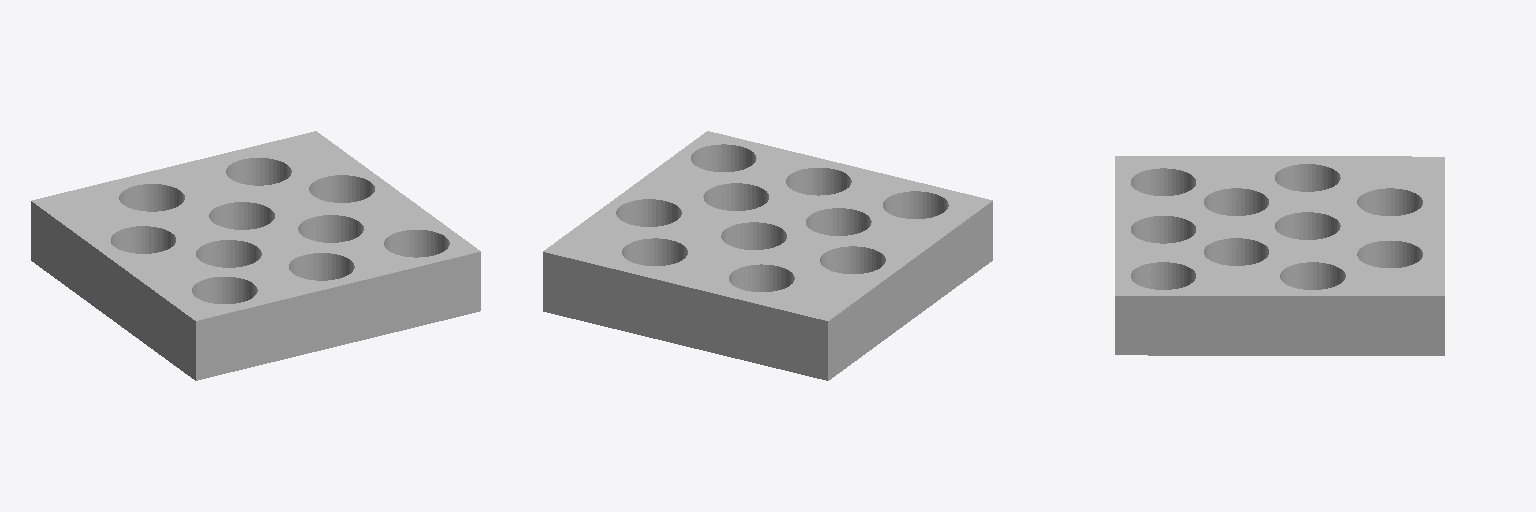
File: spears trap's base obj.obj
The picture shows the model from 3 angles: view 1: azimuth 30°, elevation 25°; view 2: azimuth 150°, elevation 25°; view 3: azimuth 270°, elevation 25°; orthographic projection.
Visible parts, largest first — view 1: Spears_Trap_Base; view 2: Spears_Trap_Base; view 3: Spears_Trap_Base.
Boxes of the visible parts, <box> form: Spears_Trap_Base: <box>31,131,480,380</box>; Spears_Trap_Base: <box>543,131,992,380</box>; Spears_Trap_Base: <box>1115,156,1444,355</box>.
Bounding box in the file's own units: 5 × 1 × 5.